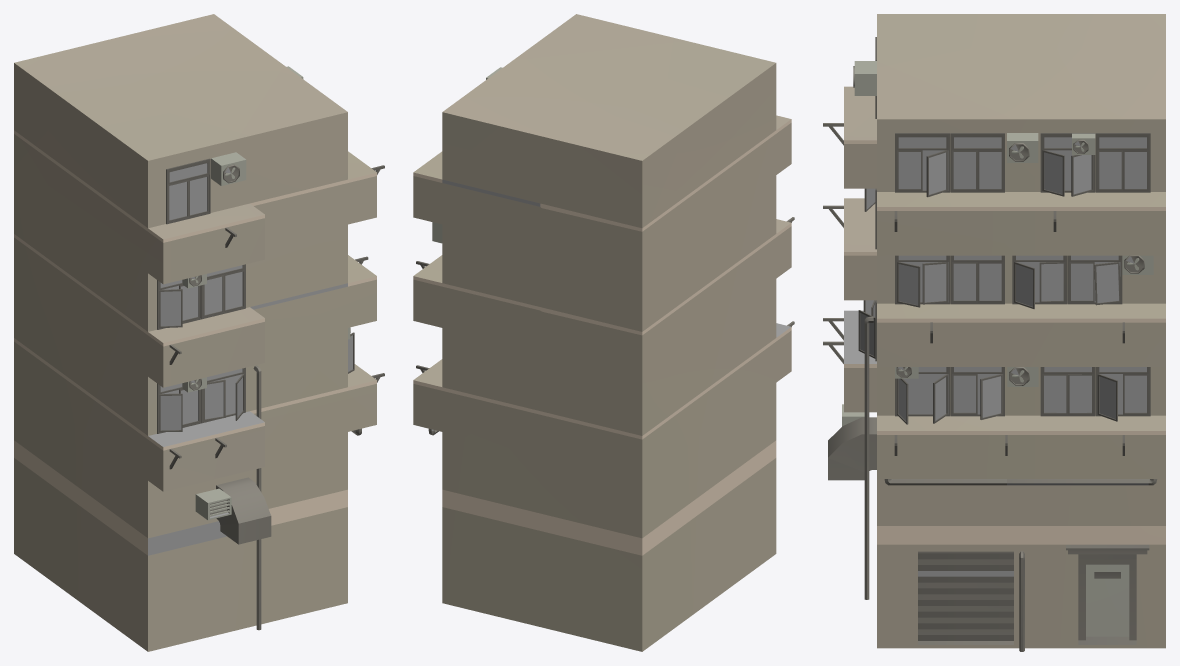
File: apt_rando_left.fbx
3 renders of one model, left to right at view 1: azimuth 30°, elevation 25°; view 2: azimuth 150°, elevation 25°; view 3: azimuth 270°, elevation 25°, orthographic. The views are drawn at different scales.
Parts seen in each view (by area): view 1: polySurface2595, polySurface2684, polySurface2677, polySurface2587, polySurface2617, polySurface2603, polySurface2582, polySurface2648, polySurface2679, polySurface2667, polySurface2592, polySurface2642 (+4 smaller); view 2: polySurface2595; view 3: polySurface2595, polySurface2673, polySurface2675, polySurface2684, polySurface2676, polySurface2677, polySurface2628, polySurface2640, polySurface2544, polySurface2656, polySurface2579, polySurface2547 (+35 smaller).
Boxes of the visible parts, x1,y1,x2,y2 form: polySurface2595: (14,14,376,651); polySurface2684: (216,477,271,544); polySurface2677: (253,365,261,630); polySurface2587: (159,289,182,328); polySurface2617: (159,393,182,432); polySurface2603: (203,379,225,421); polySurface2582: (201,367,245,423); polySurface2648: (166,158,210,224); polySurface2679: (195,488,231,520); polySurface2667: (168,180,188,222); polySurface2592: (224,269,244,312); polySurface2642: (188,175,208,217); polySurface2595: (413,14,791,651); polySurface2595: (844,14,1165,648); polySurface2673: (918,551,1013,640); polySurface2675: (1086,564,1129,636); polySurface2684: (828,417,876,480); polySurface2676: (884,479,1157,485); polySurface2677: (864,316,873,599); polySurface2628: (895,367,949,416); polySurface2640: (895,133,949,192); polySurface2544: (1095,133,1150,192); polySurface2656: (1040,133,1095,192); polySurface2579: (1039,262,1065,303); polySurface2547: (977,150,1003,190).
Size of the model in its own units: 59.4 by 114 by 66.72.
3 materials, 1 textured.
